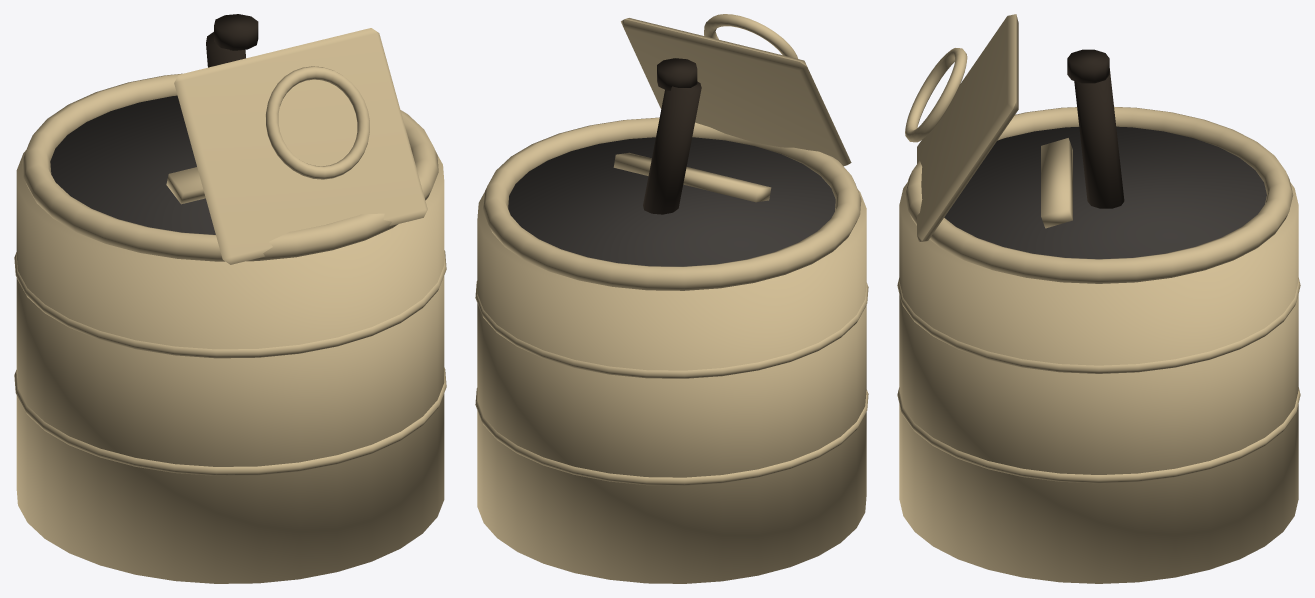
The model's file is TinCanLamp_Unlit.fbx.
The picture shows the model from 3 angles, left to right: view 1: azimuth 30°, elevation 25°; view 2: azimuth 150°, elevation 25°; view 3: azimuth 270°, elevation 25°; orthographic projection. The views are drawn at different scales.
Parts seen in each view (by area): view 1: tin_can_body, bent_back_lid_flap, rolled_top_rim, open_dark_top_recess, pressed_can_rib_lower, pressed_can_rib_upper, pull_tab_ring_on_bent_lid, blackened_wick_tip, bent_lid_hinge_strip, short_unlit_wick; view 2: tin_can_body, open_dark_top_recess, rolled_top_rim, bent_back_lid_flap, short_unlit_wick, pressed_can_rib_upper, pressed_can_rib_lower, bent_lid_hinge_strip, pull_tab_ring_on_bent_lid, blackened_wick_tip; view 3: tin_can_body, open_dark_top_recess, rolled_top_rim, bent_back_lid_flap, short_unlit_wick, pressed_can_rib_upper, pressed_can_rib_lower, bent_lid_hinge_strip, pull_tab_ring_on_bent_lid, blackened_wick_tip.
Part boxes in pixels (<box>): tin_can_body: <box>16,150,444,583</box>; bent_back_lid_flap: <box>174,28,427,264</box>; rolled_top_rim: <box>22,73,438,261</box>; open_dark_top_recess: <box>50,95,215,234</box>; pressed_can_rib_lower: <box>14,367,446,475</box>; pressed_can_rib_upper: <box>14,250,446,358</box>; pull_tab_ring_on_bent_lid: <box>265,66,369,179</box>; blackened_wick_tip: <box>214,14,258,50</box>; bent_lid_hinge_strip: <box>166,167,205,204</box>; short_unlit_wick: <box>206,32,245,67</box>; tin_can_body: <box>477,190,866,583</box>; open_dark_top_recess: <box>508,137,835,266</box>; rolled_top_rim: <box>482,117,861,290</box>; bent_back_lid_flap: <box>621,18,851,166</box>; short_unlit_wick: <box>643,81,701,214</box>; pressed_can_rib_upper: <box>475,281,868,378</box>; pressed_can_rib_lower: <box>475,388,868,485</box>; bent_lid_hinge_strip: <box>613,152,771,202</box>; pull_tab_ring_on_bent_lid: <box>704,14,797,58</box>; blackened_wick_tip: <box>657,58,697,90</box>; tin_can_body: <box>899,182,1298,583</box>; open_dark_top_recess: <box>944,126,1266,259</box>; rolled_top_rim: <box>904,106,1293,283</box>; bent_back_lid_flap: <box>917,14,1018,242</box>; short_unlit_wick: <box>1074,68,1124,208</box>; pressed_can_rib_upper: <box>897,278,1300,373</box>; pressed_can_rib_lower: <box>897,387,1300,483</box>; bent_lid_hinge_strip: <box>1041,138,1072,228</box>; pull_tab_ring_on_bent_lid: <box>905,48,967,142</box>; blackened_wick_tip: <box>1067,49,1109,83</box>.
Size of the model in its own units: 0.768 by 0.938 by 0.768.
